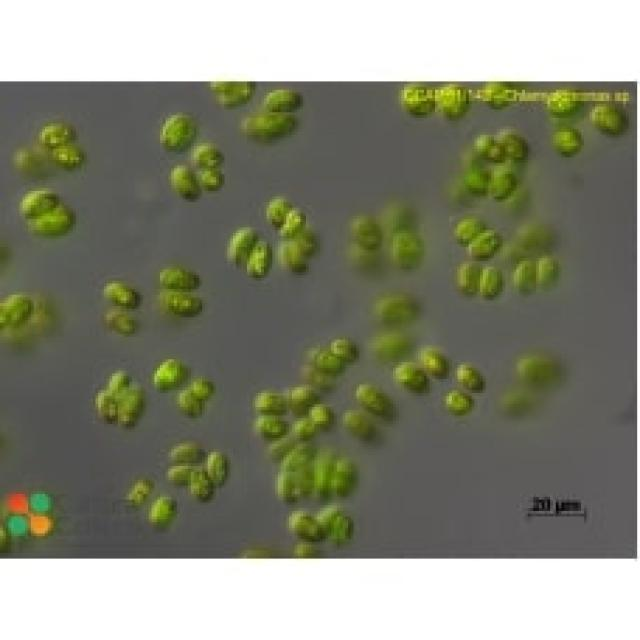Green Algae: (236, 112, 300, 146), (25, 199, 73, 239), (2, 289, 34, 337), (157, 112, 197, 149), (143, 494, 180, 533), (160, 157, 196, 197), (376, 292, 418, 326), (149, 354, 185, 393), (101, 278, 146, 309), (289, 508, 329, 542), (474, 258, 506, 300), (359, 382, 396, 418), (589, 104, 629, 137), (264, 79, 300, 115), (505, 261, 539, 298), (278, 449, 300, 505), (157, 267, 205, 292), (396, 230, 424, 272), (449, 213, 486, 244), (222, 224, 250, 264), (550, 126, 584, 158), (157, 292, 205, 314), (261, 188, 289, 225), (531, 250, 564, 281), (455, 365, 488, 396), (396, 362, 429, 393), (500, 124, 528, 160), (17, 188, 59, 211), (351, 213, 382, 244), (286, 382, 320, 410), (278, 242, 309, 272), (455, 258, 480, 295), (250, 238, 272, 280), (488, 166, 516, 199), (174, 390, 205, 418), (36, 121, 73, 143), (252, 413, 284, 438), (421, 348, 446, 379), (472, 129, 499, 157), (205, 452, 227, 486), (194, 466, 213, 505), (196, 138, 228, 160), (166, 463, 193, 489), (93, 393, 118, 421), (331, 514, 354, 544), (124, 393, 143, 429), (56, 143, 90, 163), (472, 233, 502, 255), (191, 376, 216, 402), (444, 387, 472, 410), (334, 334, 357, 362), (168, 444, 205, 461), (104, 368, 129, 393), (256, 387, 286, 407), (199, 166, 225, 188), (334, 458, 357, 477), (286, 205, 303, 227)
